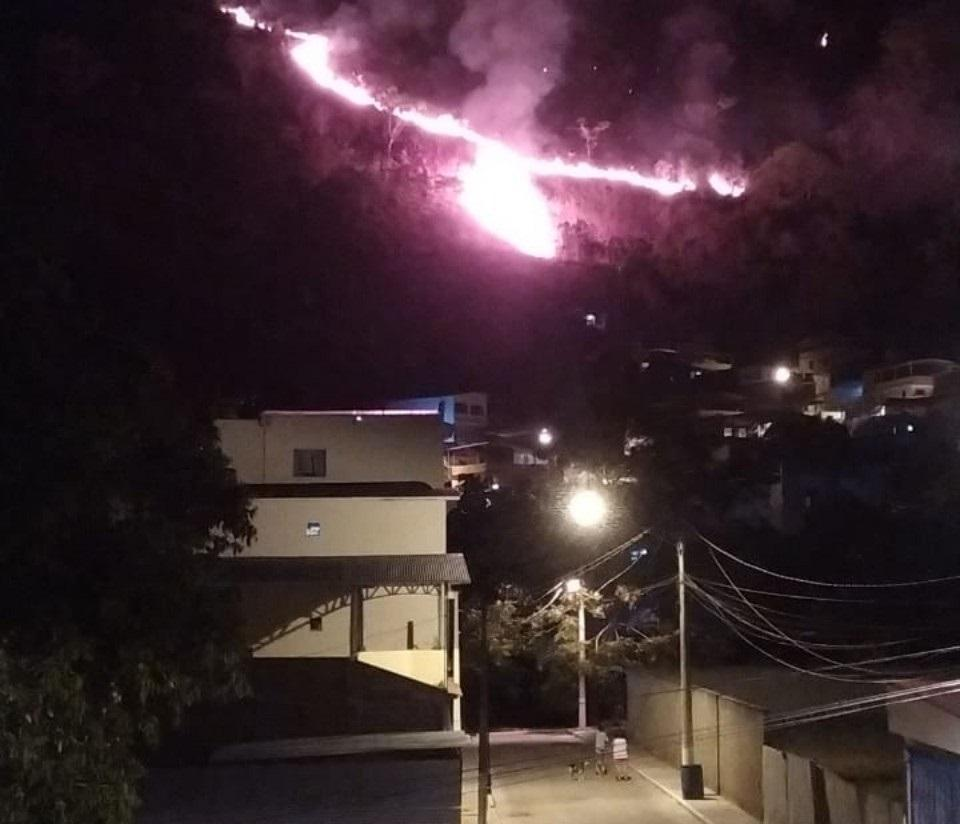Fire: (396, 111, 700, 260), (280, 27, 389, 113), (226, 6, 273, 33), (708, 168, 746, 201)
